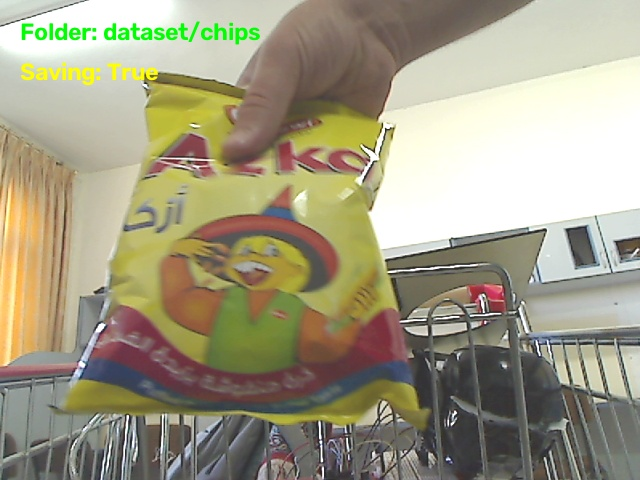chips: (63, 74, 425, 423)
